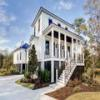stairs: (49, 61, 80, 90)
